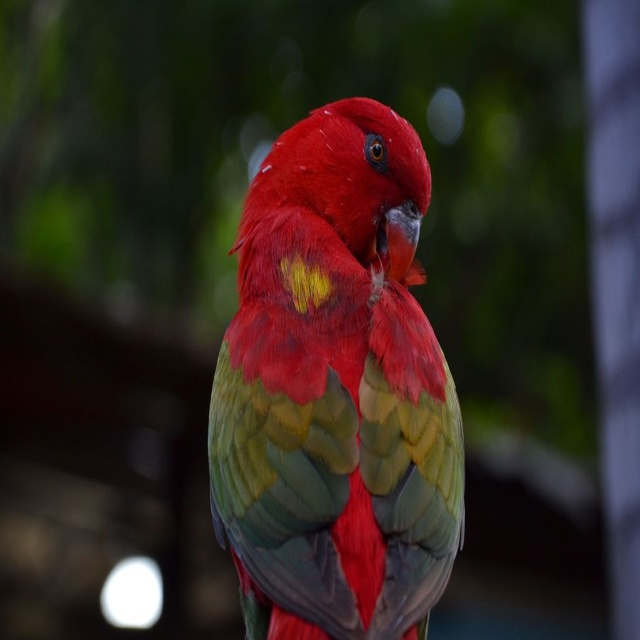Parrot: (203, 91, 466, 639)
